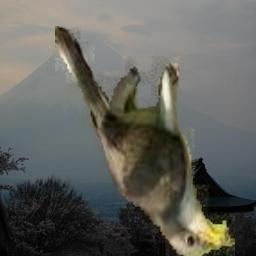Cuckoo: (55, 26, 235, 256)
